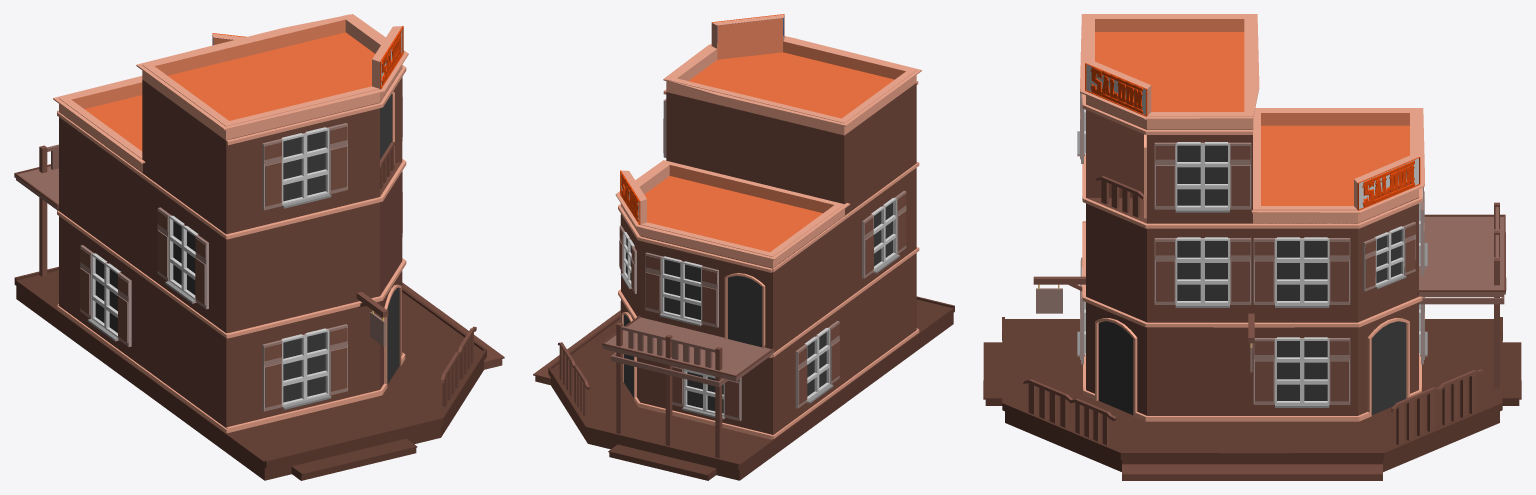
File: Saloonbig.fbx
The picture shows the model from 3 angles, left to right: view 1: azimuth 30°, elevation 25°; view 2: azimuth 150°, elevation 25°; view 3: azimuth 270°, elevation 25°; orthographic projection. The views are drawn at different scales.
Visible parts, largest first — view 1: Huis laag 1.003, Huis laag 1.005, platform.001, Huis laag 1.004, Huis laag 1.002, huis laag 2, Raam1.007, Raam1.006, Huis laag 1.001, Huis laag 1, Raam1.010, Raam1.009 (+12 smaller); view 2: Huis laag 1.004, Huis laag 1.005, Huis laag 1.001, platform, huis laag 2, Huis laag 1, Huis laag 1.002, Raam1.002, huis laag 2.001, Huis laag 1.003, deur rand.001, Raam1.009 (+13 smaller); view 3: Huis laag 1.005, Huis laag 1.001, platform.001, platform, Huis laag 1.002, Huis laag 1.003, Huis laag 1.004, huis laag 2, Raam1.008, Raam1.003, Raam1.005, Raam1 (+22 smaller).
Boxes of the visible parts, bbox=[...] form: Huis laag 1.003: bbox=[143, 162, 402, 333]; Huis laag 1.005: bbox=[136, 14, 408, 140]; platform.001: bbox=[140, 300, 486, 480]; Huis laag 1.004: bbox=[142, 68, 402, 239]; Huis laag 1.002: bbox=[143, 271, 402, 427]; huis laag 2: bbox=[14, 113, 142, 272]; Raam1.007: bbox=[262, 123, 347, 210]; Raam1.006: bbox=[262, 324, 347, 411]; Huis laag 1.001: bbox=[53, 33, 246, 172]; Huis laag 1: bbox=[59, 216, 142, 366]; Raam1.010: bbox=[157, 207, 208, 309]; Raam1.009: bbox=[80, 245, 131, 346]; Huis laag 1.004: bbox=[666, 83, 916, 215]; Huis laag 1.005: bbox=[663, 14, 921, 135]; Huis laag 1.001: bbox=[615, 160, 850, 268]; platform: bbox=[548, 326, 847, 480]; huis laag 2: bbox=[602, 206, 844, 376]; Huis laag 1: bbox=[621, 299, 844, 434]; Huis laag 1.002: bbox=[845, 253, 916, 382]; Raam1.002: bbox=[645, 252, 718, 327]; huis laag 2.001: bbox=[602, 317, 774, 381]; Huis laag 1.003: bbox=[845, 168, 916, 300]; deur rand.001: bbox=[724, 273, 765, 348]; Raam1.009: bbox=[795, 321, 839, 408]; Huis laag 1.005: bbox=[1080, 14, 1259, 129]; Huis laag 1.001: bbox=[1251, 108, 1424, 223]; platform.001: bbox=[1002, 317, 1253, 471]; platform: bbox=[1254, 317, 1502, 471]; Huis laag 1.002: bbox=[1086, 302, 1252, 415]; Huis laag 1.003: bbox=[1086, 198, 1252, 322]; Huis laag 1.004: bbox=[1086, 95, 1252, 229]; huis laag 2: bbox=[1253, 197, 1506, 322]; Raam1.008: bbox=[1154, 142, 1251, 212]; Raam1.003: bbox=[1253, 237, 1350, 307]; Raam1.005: bbox=[1154, 237, 1251, 307]; Raam1: bbox=[1253, 337, 1350, 407].
Bounding box in the file's own units: 1328 × 1468 × 2047.
